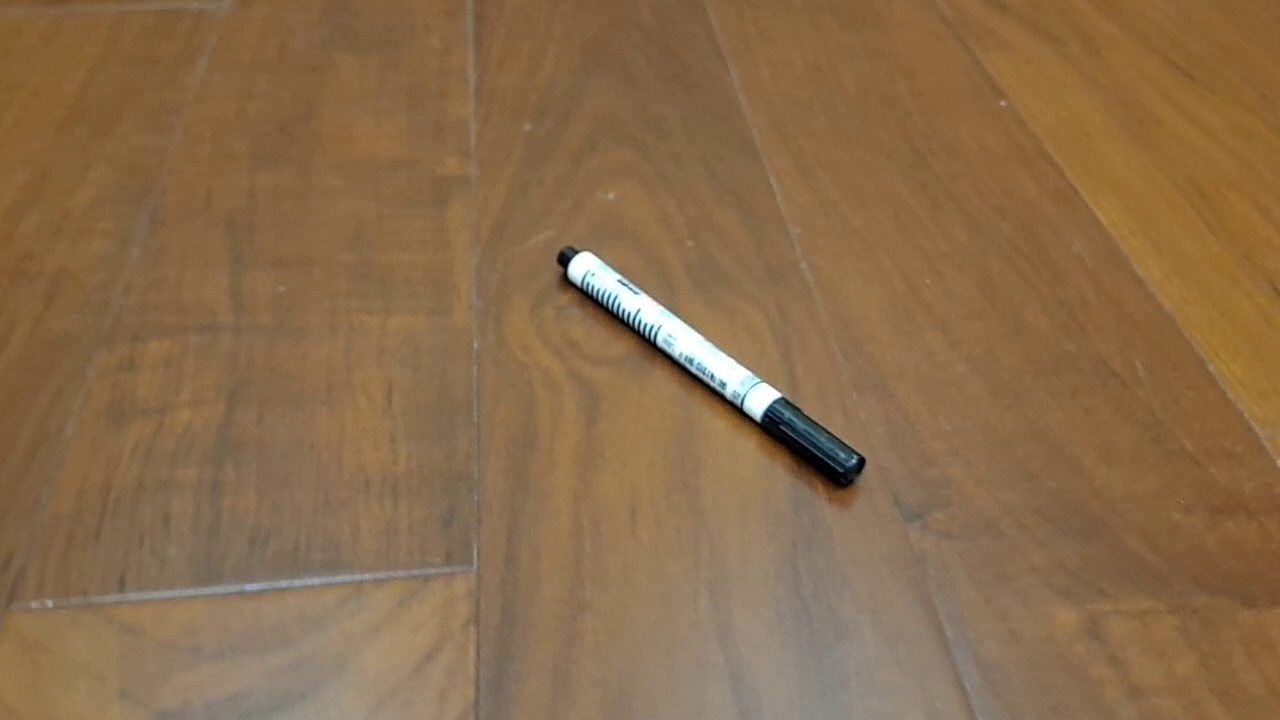pen: (556, 245, 866, 490)
